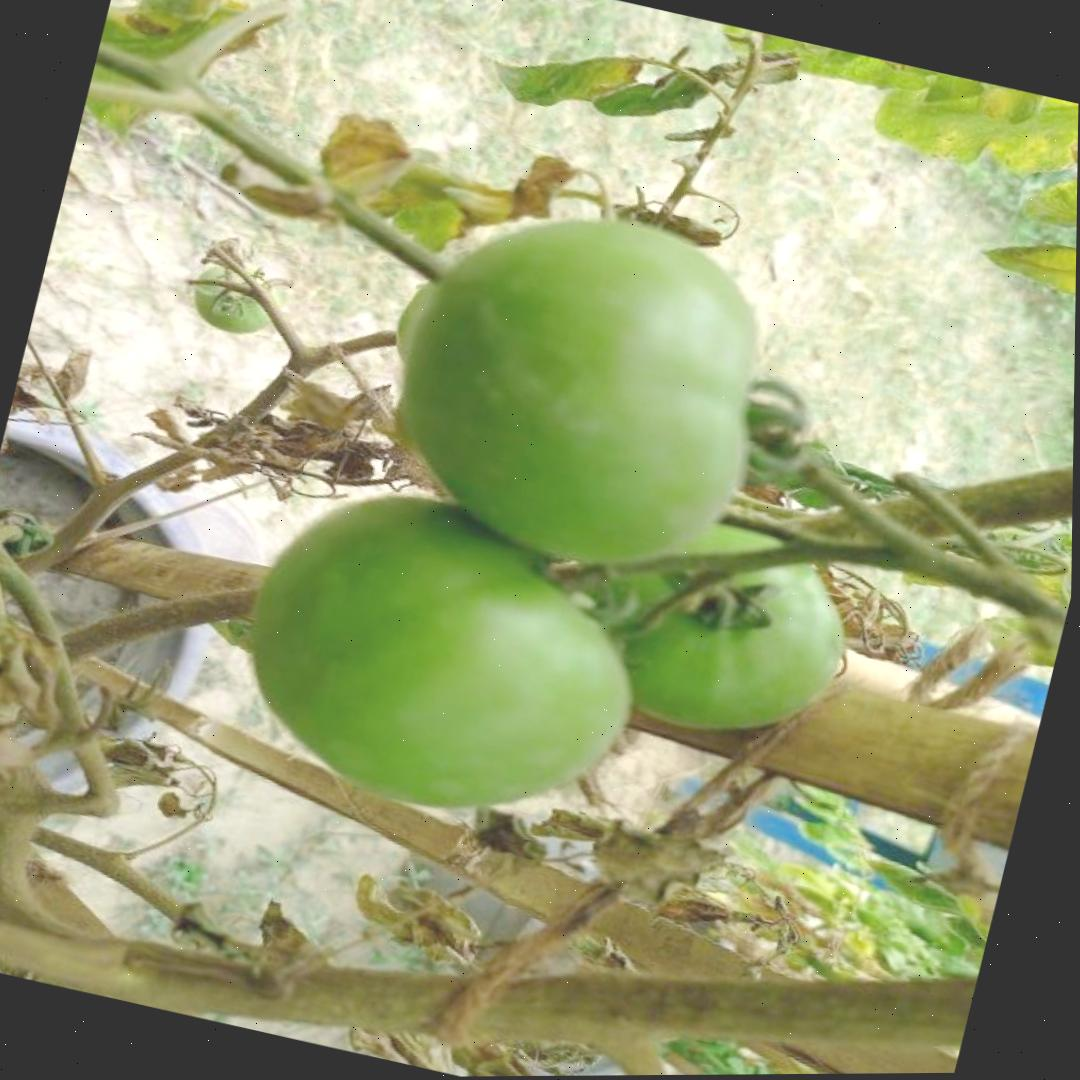mentah: (364, 175, 799, 596), (211, 459, 673, 851), (552, 492, 870, 758), (180, 255, 287, 345)
